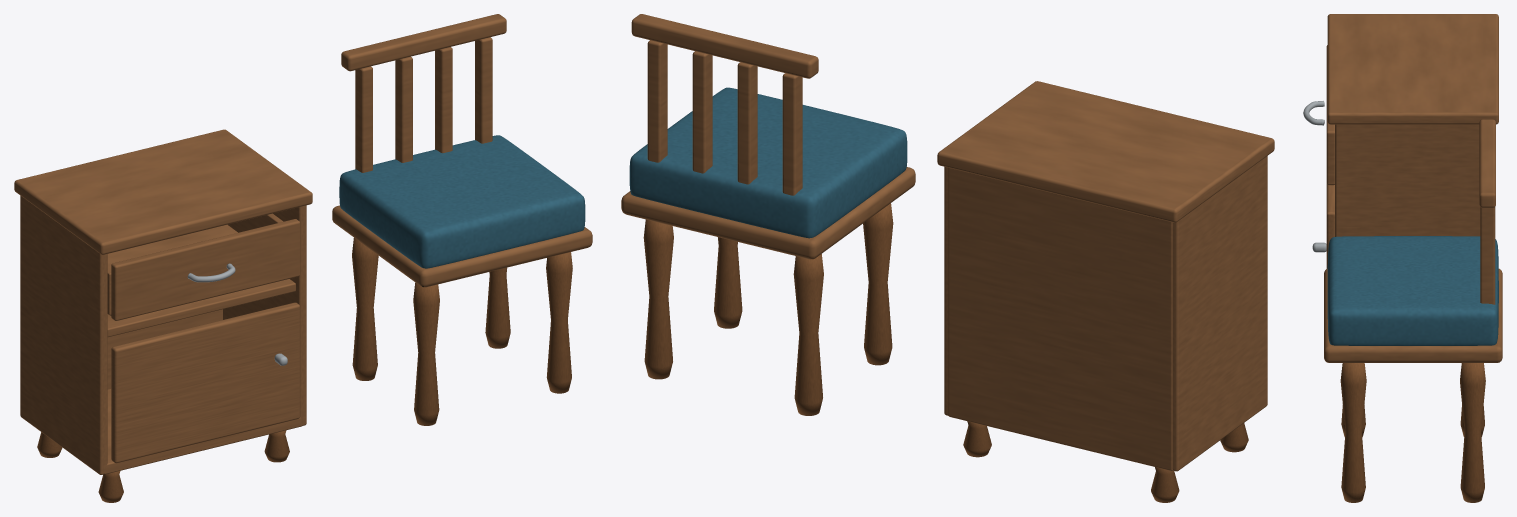
File: result.glb
The picture shows the model from 3 angles, left to right: view 1: azimuth 30°, elevation 25°; view 2: azimuth 150°, elevation 25°; view 3: azimuth 270°, elevation 25°; orthographic projection. The views are drawn at different scales.
Parts seen in each view (by area): view 1: swivel, door, Cabinet top, Cabinet side, drawer, Chair legs-0, Chair legs-1, Chair legs-2, Inner shelf, Cabinet side.001, Cabinet bottom, Chair legs-3 (+3 smaller); view 2: Cabinet back, swivel, Cabinet top, Cabinet side, Chair legs-2, Chair legs-3, Chair legs-0, Chair legs-1, Cabinet side.001, Cabinet legs-3, Cabinet legs-2; view 3: swivel, Cabinet top, Cabinet side.001, Chair legs-1, Chair legs-3, drawer, door.
Boxes of the visible parts, x1,y1,x2,y2 form: swivel: [332, 14, 592, 287]; door: [111, 302, 299, 463]; Cabinet top: [14, 129, 312, 254]; Cabinet side: [20, 195, 107, 474]; drawer: [107, 213, 300, 320]; Chair legs-0: [413, 282, 439, 425]; Chair legs-1: [546, 252, 572, 393]; Chair legs-2: [352, 238, 378, 380]; Inner shelf: [107, 279, 295, 337]; Cabinet side.001: [223, 205, 306, 425]; Cabinet bottom: [104, 389, 302, 474]; Chair legs-3: [485, 267, 510, 348]; Cabinet back: [948, 167, 1172, 470]; swivel: [621, 14, 915, 259]; Cabinet top: [937, 81, 1274, 222]; Cabinet side: [1172, 156, 1267, 471]; Chair legs-2: [793, 254, 823, 415]; Chair legs-3: [643, 219, 673, 379]; Chair legs-0: [863, 203, 893, 365]; Chair legs-1: [714, 237, 742, 328]; Cabinet side.001: [944, 166, 948, 415]; Cabinet legs-3: [963, 421, 991, 457]; Cabinet legs-2: [1151, 467, 1179, 502]; swivel: [1324, 119, 1502, 362]; Cabinet top: [1327, 14, 1498, 124]; Cabinet side.001: [1335, 124, 1480, 236]; Chair legs-1: [1340, 363, 1366, 502]; Chair legs-3: [1460, 363, 1485, 502]; drawer: [1303, 45, 1334, 185]; door: [1312, 184, 1334, 268].
Size of the model in its own units: 1.48 by 0.9225 by 0.5351.
21 materials, 21 textured.
